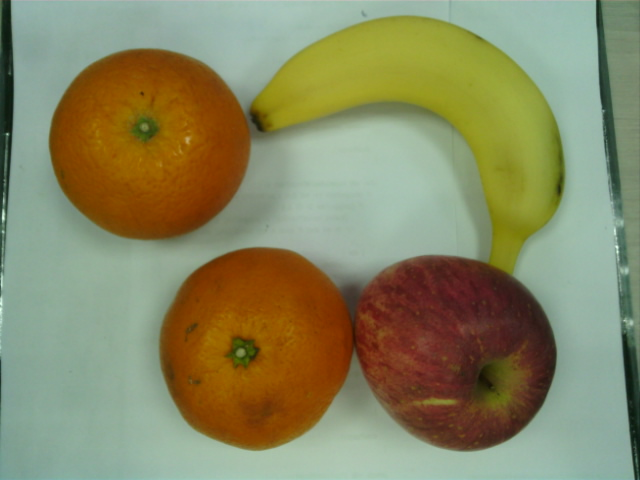normal_apple: (356, 256, 558, 452)
normal_banana: (253, 15, 564, 275)
normal_orange: (50, 49, 251, 241), (160, 249, 350, 450)
